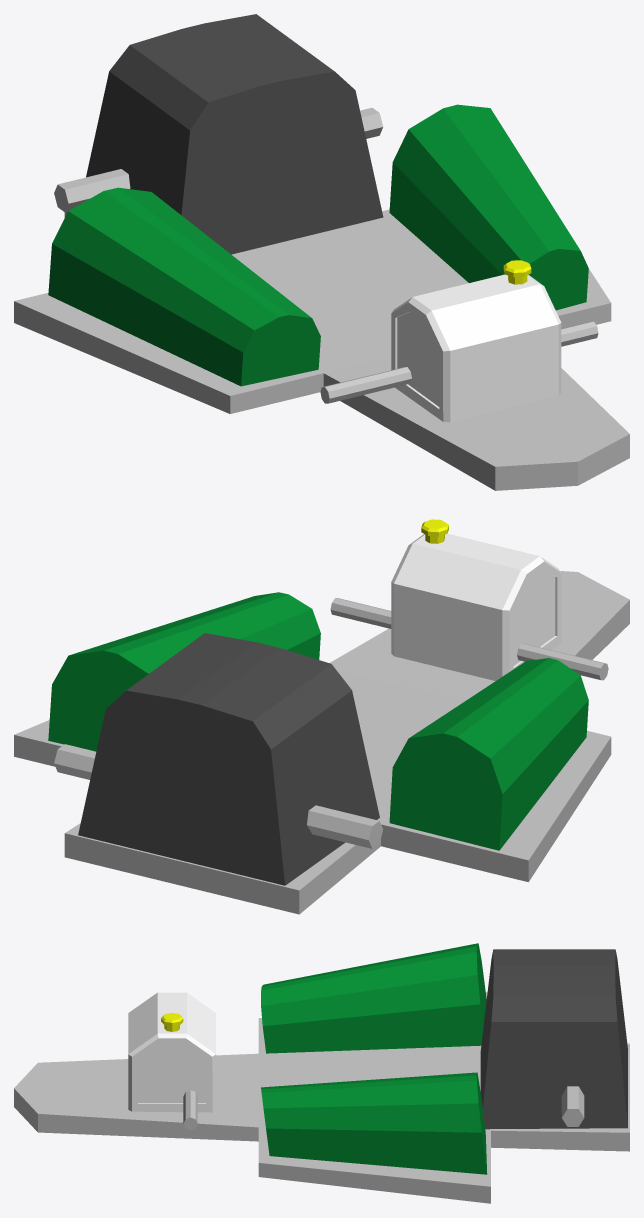
The model's file is KartPlataform1.fbx.
3 views of the same model, one above another, from view 1: azimuth 30°, elevation 25°; view 2: azimuth 150°, elevation 25°; view 3: azimuth 270°, elevation 25° (orthographic). The views are drawn at different scales.
Parts seen in each view (by area): view 1: KartPlataform1; view 2: KartPlataform1; view 3: KartPlataform1.
Part boxes in pixels (x1,y1,x2,y2): KartPlataform1: (14, 14, 629, 490); KartPlataform1: (14, 519, 629, 914); KartPlataform1: (14, 943, 629, 1203).
Size of the model in its own units: 1053 by 345 by 1403.
